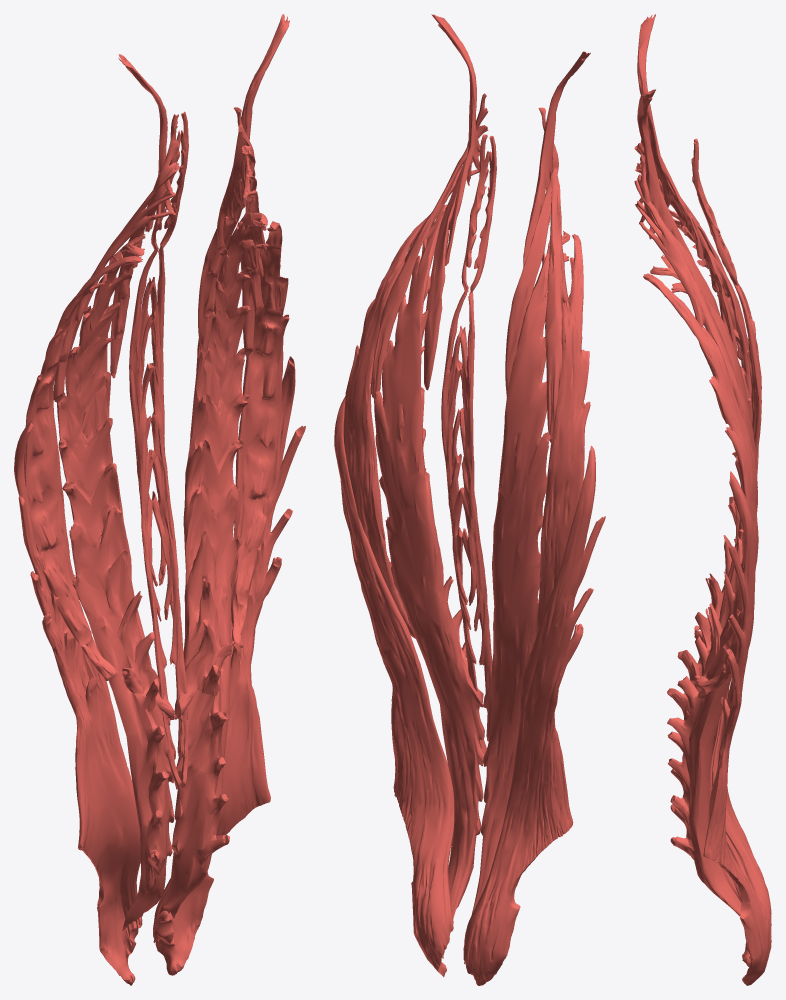
The model's file is supplement-spine-trunk-muscle-erector-spinae.glb.
The picture shows the model from 3 angles, left to right: view 1: azimuth 30°, elevation 25°; view 2: azimuth 150°, elevation 25°; view 3: azimuth 270°, elevation 25°; orthographic projection. The views are drawn at different scales.
Parts seen in each view (by area): view 1: spine-trunk:erector-spinae:isa:FJ1535M, spine-trunk:erector-spinae:isa:FJ1535, spine-trunk:erector-spinae:isa:FJ1527, spine-trunk:erector-spinae:isa:FJ1527M, spine-trunk:erector-spinae:isa:FJ1528M, spine-trunk:erector-spinae:isa:FJ1528, spine-trunk:erector-spinae:isa:FJ1544M, spine-trunk:erector-spinae:isa:FJ1544, spine-trunk:erector-spinae:isa:FJ1533M, spine-trunk:erector-spinae:isa:FJ1534M, spine-trunk:erector-spinae:isa:FJ1526, spine-trunk:erector-spinae:isa:FJ1526M (+3 smaller); view 2: spine-trunk:erector-spinae:isa:FJ1535M, spine-trunk:erector-spinae:isa:FJ1535, spine-trunk:erector-spinae:isa:FJ1527, spine-trunk:erector-spinae:isa:FJ1527M, spine-trunk:erector-spinae:isa:FJ1528, spine-trunk:erector-spinae:isa:FJ1528M, spine-trunk:erector-spinae:isa:FJ1544, spine-trunk:erector-spinae:isa:FJ1544M, spine-trunk:erector-spinae:isa:FJ1526, spine-trunk:erector-spinae:isa:FJ1526M, spine-trunk:erector-spinae:isa:FJ1534, spine-trunk:erector-spinae:isa:FJ1534M (+4 smaller); view 3: spine-trunk:erector-spinae:isa:FJ1535M, spine-trunk:erector-spinae:isa:FJ1527M, spine-trunk:erector-spinae:isa:FJ1528M, spine-trunk:erector-spinae:isa:FJ1535, spine-trunk:erector-spinae:isa:FJ1526M, spine-trunk:erector-spinae:isa:FJ1527, spine-trunk:erector-spinae:isa:FJ1533, spine-trunk:erector-spinae:isa:FJ1533M, spine-trunk:erector-spinae:isa:FJ1544M, spine-trunk:erector-spinae:isa:FJ1534, spine-trunk:erector-spinae:isa:FJ1534M, spine-trunk:erector-spinae:isa:FJ1543M (+3 smaller).
Boxes of the visible parts, x1,y1,x2,y2 form: spine-trunk:erector-spinae:isa:FJ1535M: (155, 208, 267, 942); spine-trunk:erector-spinae:isa:FJ1535: (57, 234, 174, 930); spine-trunk:erector-spinae:isa:FJ1527: (14, 419, 142, 985); spine-trunk:erector-spinae:isa:FJ1527M: (153, 356, 305, 975); spine-trunk:erector-spinae:isa:FJ1528M: (231, 221, 289, 648); spine-trunk:erector-spinae:isa:FJ1528: (24, 256, 142, 680); spine-trunk:erector-spinae:isa:FJ1544M: (149, 245, 189, 788); spine-trunk:erector-spinae:isa:FJ1544: (129, 247, 181, 789); spine-trunk:erector-spinae:isa:FJ1533M: (217, 14, 289, 247); spine-trunk:erector-spinae:isa:FJ1534M: (198, 107, 254, 356); spine-trunk:erector-spinae:isa:FJ1526: (53, 167, 179, 402); spine-trunk:erector-spinae:isa:FJ1526M: (240, 150, 266, 356); spine-trunk:erector-spinae:isa:FJ1535M: (374, 205, 484, 935); spine-trunk:erector-spinae:isa:FJ1535: (471, 231, 570, 914); spine-trunk:erector-spinae:isa:FJ1527: (463, 445, 605, 985); spine-trunk:erector-spinae:isa:FJ1527M: (334, 396, 454, 977); spine-trunk:erector-spinae:isa:FJ1528: (535, 234, 590, 637); spine-trunk:erector-spinae:isa:FJ1528M: (343, 204, 446, 638); spine-trunk:erector-spinae:isa:FJ1544: (459, 290, 492, 704); spine-trunk:erector-spinae:isa:FJ1544M: (441, 286, 486, 754); spine-trunk:erector-spinae:isa:FJ1526: (545, 150, 568, 442); spine-trunk:erector-spinae:isa:FJ1526M: (371, 129, 488, 399); spine-trunk:erector-spinae:isa:FJ1534: (505, 107, 558, 396); spine-trunk:erector-spinae:isa:FJ1534M: (424, 93, 488, 390); spine-trunk:erector-spinae:isa:FJ1535M: (650, 255, 757, 916); spine-trunk:erector-spinae:isa:FJ1527M: (703, 471, 771, 985); spine-trunk:erector-spinae:isa:FJ1528M: (643, 273, 758, 694); spine-trunk:erector-spinae:isa:FJ1535: (667, 209, 751, 901); spine-trunk:erector-spinae:isa:FJ1526M: (634, 180, 747, 427); spine-trunk:erector-spinae:isa:FJ1527: (710, 366, 771, 966); spine-trunk:erector-spinae:isa:FJ1533: (637, 14, 703, 260); spine-trunk:erector-spinae:isa:FJ1533M: (637, 89, 695, 263); spine-trunk:erector-spinae:isa:FJ1544M: (720, 283, 761, 629); spine-trunk:erector-spinae:isa:FJ1534: (636, 111, 737, 356); spine-trunk:erector-spinae:isa:FJ1534M: (636, 151, 720, 317); spine-trunk:erector-spinae:isa:FJ1543M: (691, 142, 738, 285).
Size of the model in its own units: 0.2046 by 0.6698 by 0.09.
